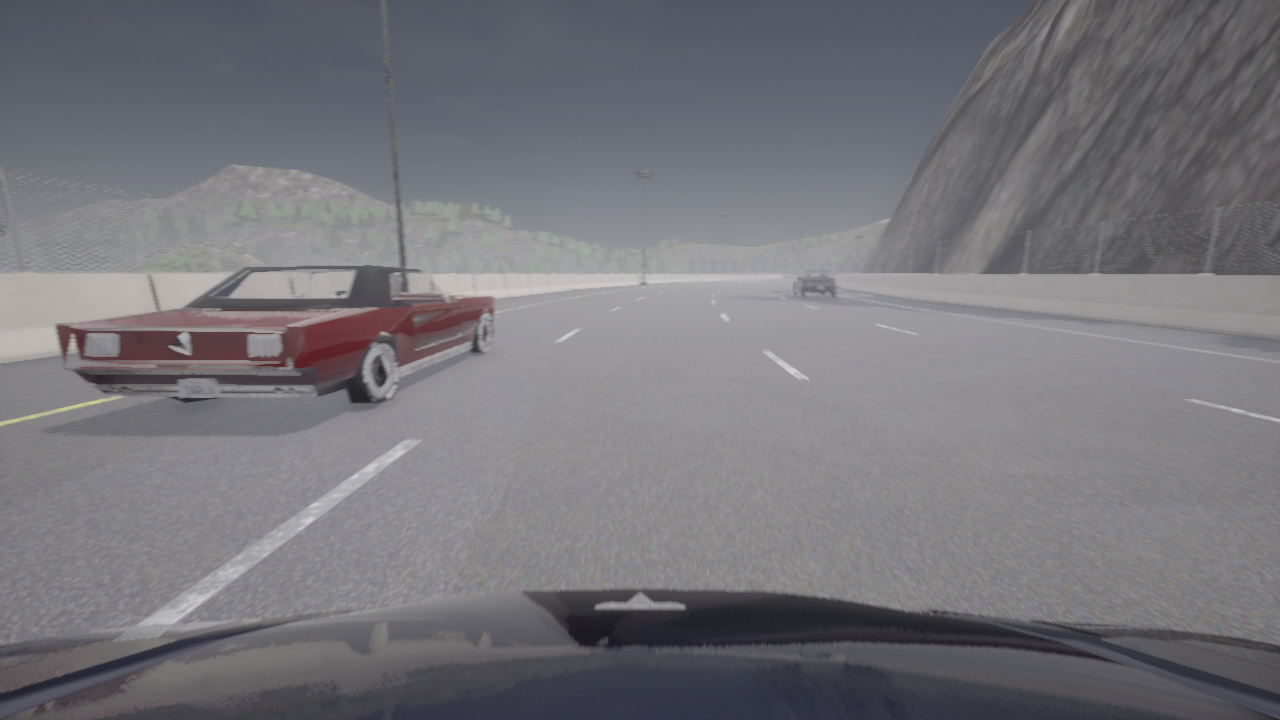cyclist: (0, 588, 1279, 719), (55, 265, 497, 404), (792, 269, 836, 297)
